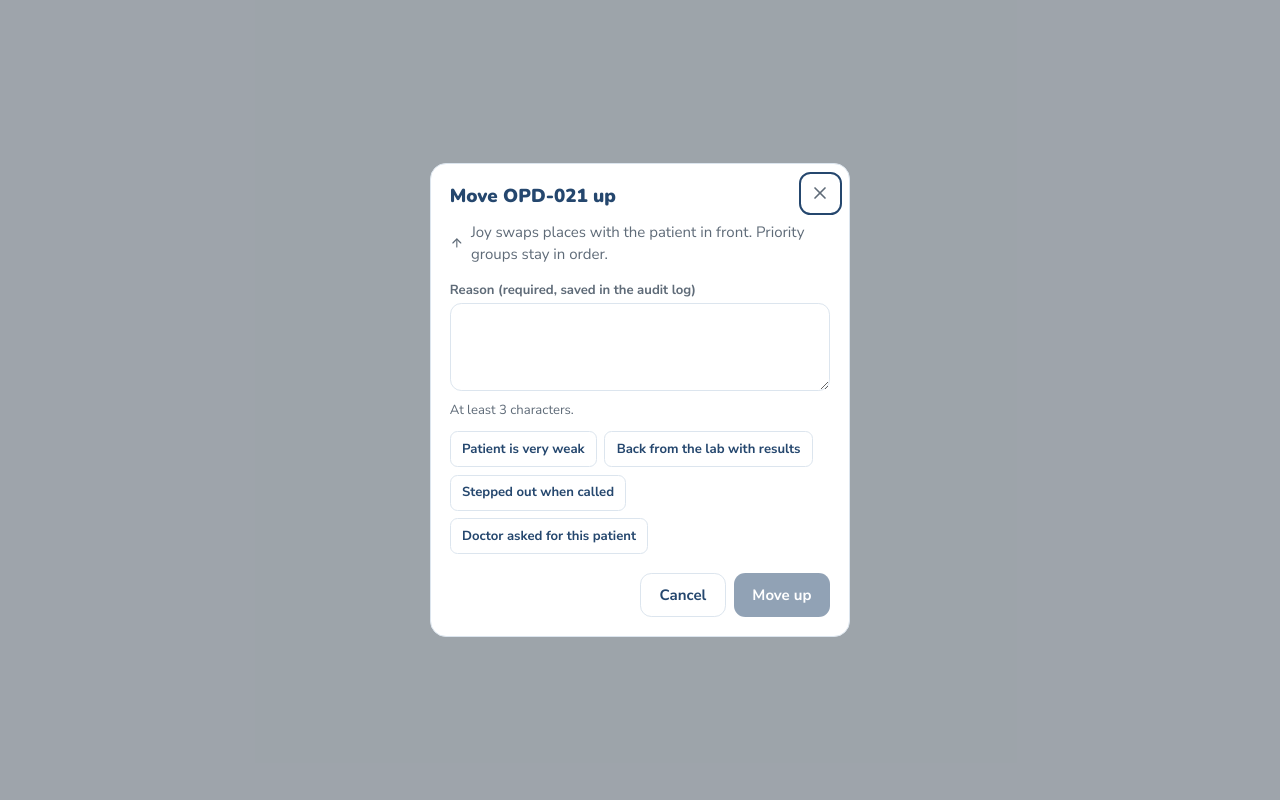
Test case: ReorderDialog › fills the reason from a suggestion
The image size is (1280, 800).
Later steps or results of the test are not shown.
Click the button "Patient is very weak".
click(523, 449)  # box top-left (450, 431), bottom-right (597, 467)
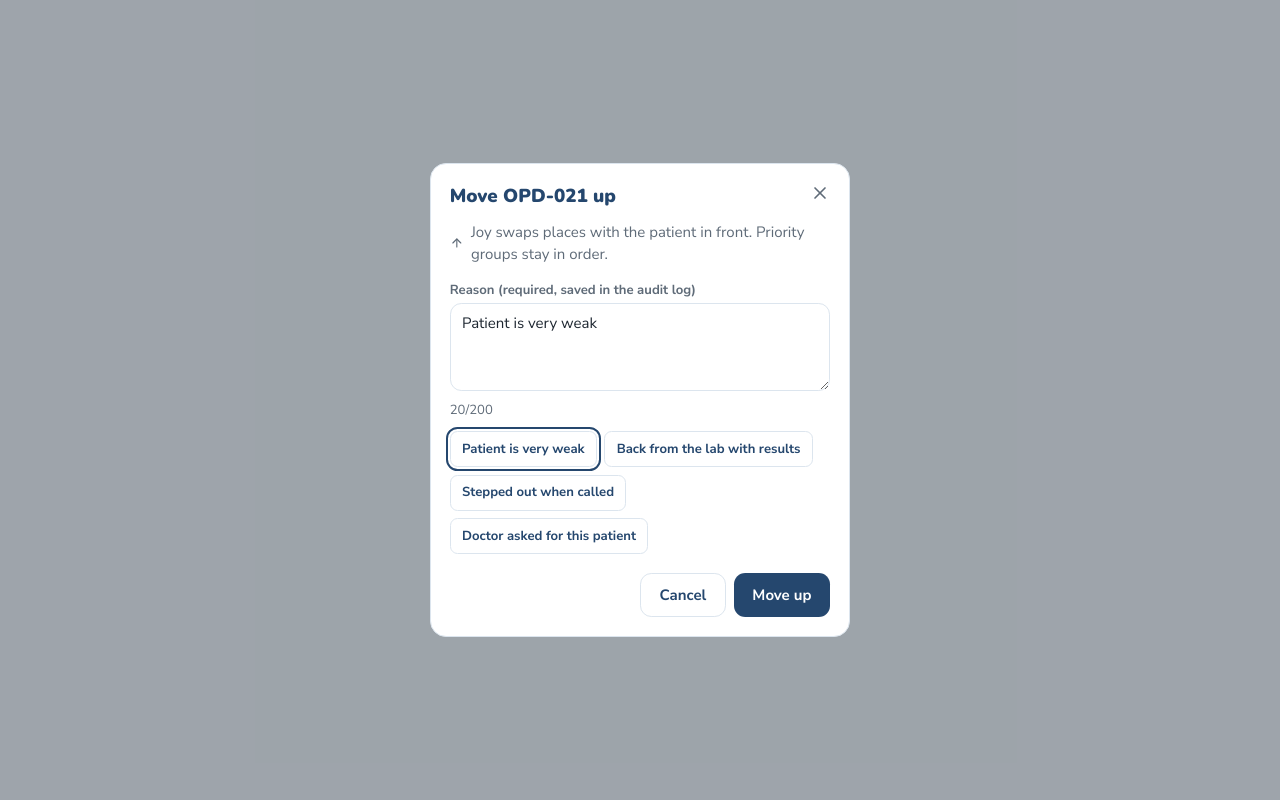
Check: the text box labelled "Reason (required, saved in the audit log)" holds "Patient is very weak", box top-left (450, 303), bottom-right (830, 391)
